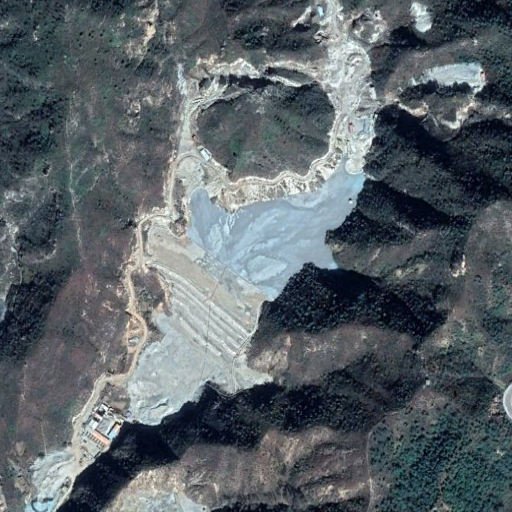tp: (150, 151, 366, 357)
